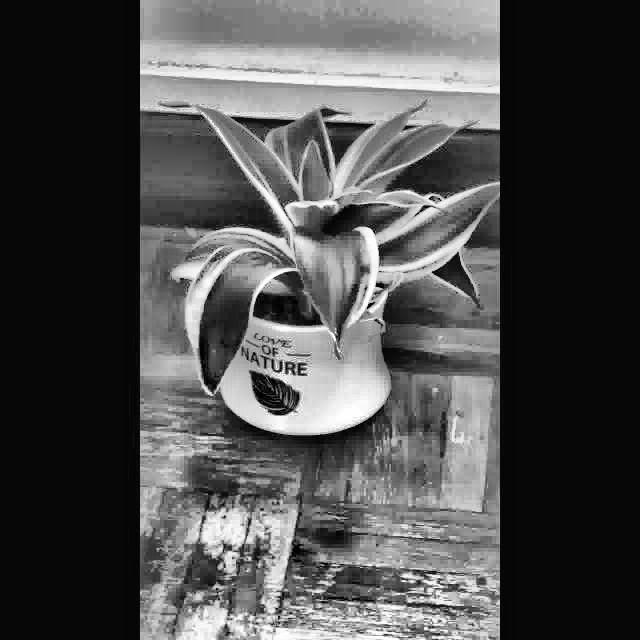plants: (158, 96, 500, 450)
